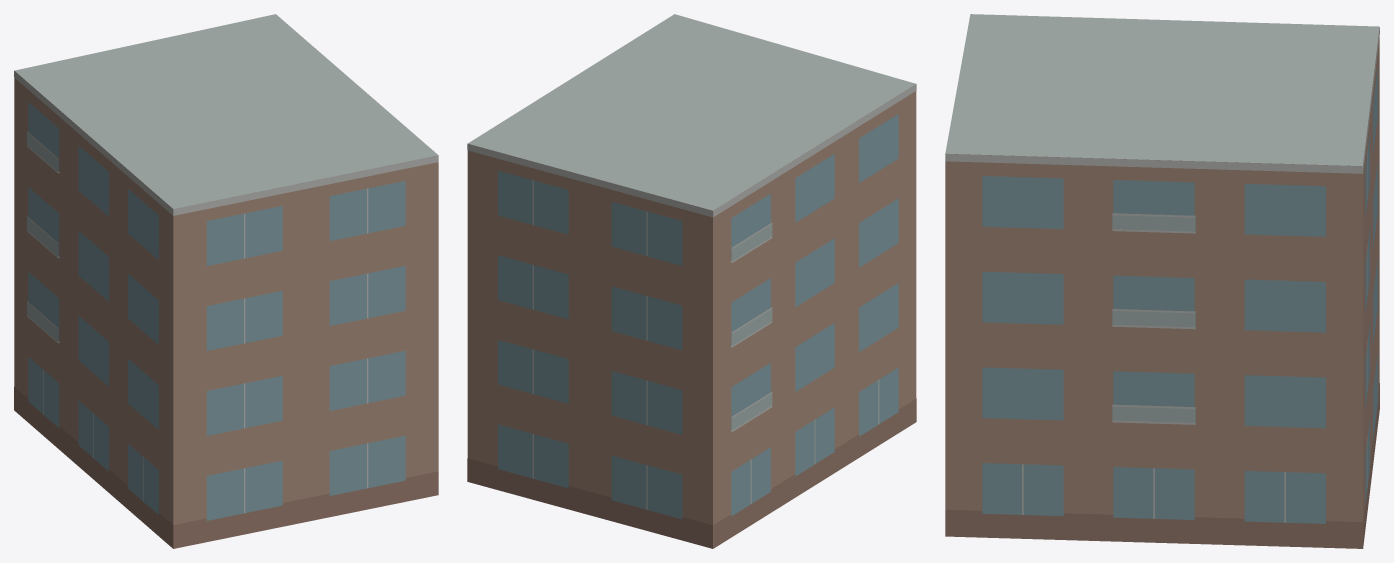
File: survey-upis-32905378.glb
3 views of the same model, side by side, from view 1: azimuth 30°, elevation 25°; view 2: azimuth 150°, elevation 25°; view 3: azimuth 270°, elevation 25° (orthographic). The views are drawn at different scales.
Visible parts, largest first — view 1: survey-upis-32905378.tmp; view 2: survey-upis-32905378.tmp; view 3: survey-upis-32905378.tmp.
Boxes of the visible parts, x1,y1,x2,y2 form: survey-upis-32905378.tmp: [14, 14, 438, 548]; survey-upis-32905378.tmp: [467, 14, 916, 548]; survey-upis-32905378.tmp: [945, 14, 1379, 548].
Bounding box in the file's own units: 10.41 × 12.2 × 12.56.
